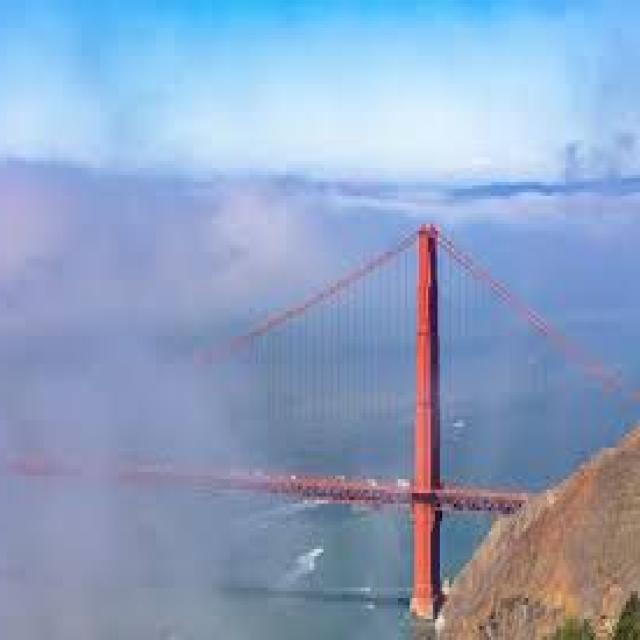Bridges: (4, 201, 622, 618)
